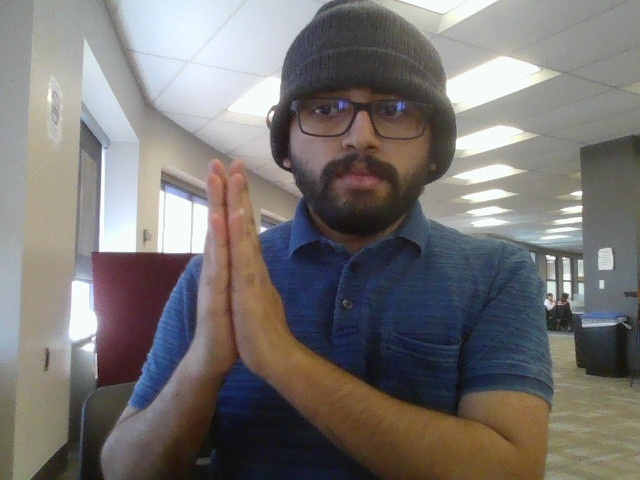start: (150, 159, 331, 396)
